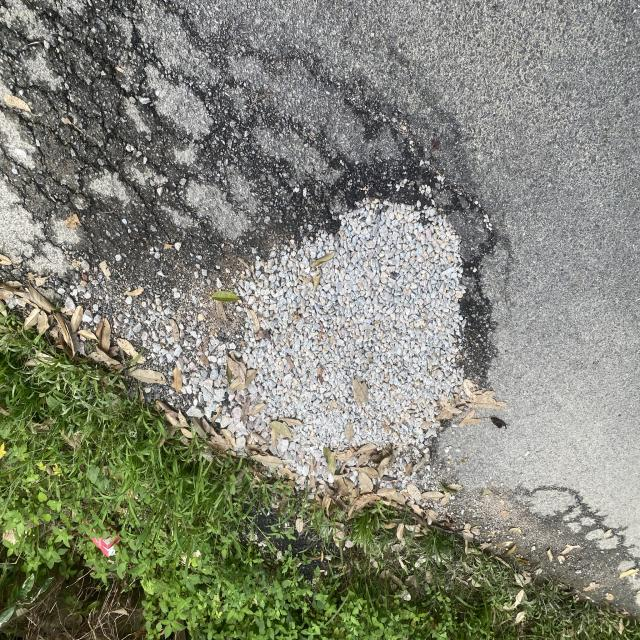pothole: (163, 131, 511, 528)
